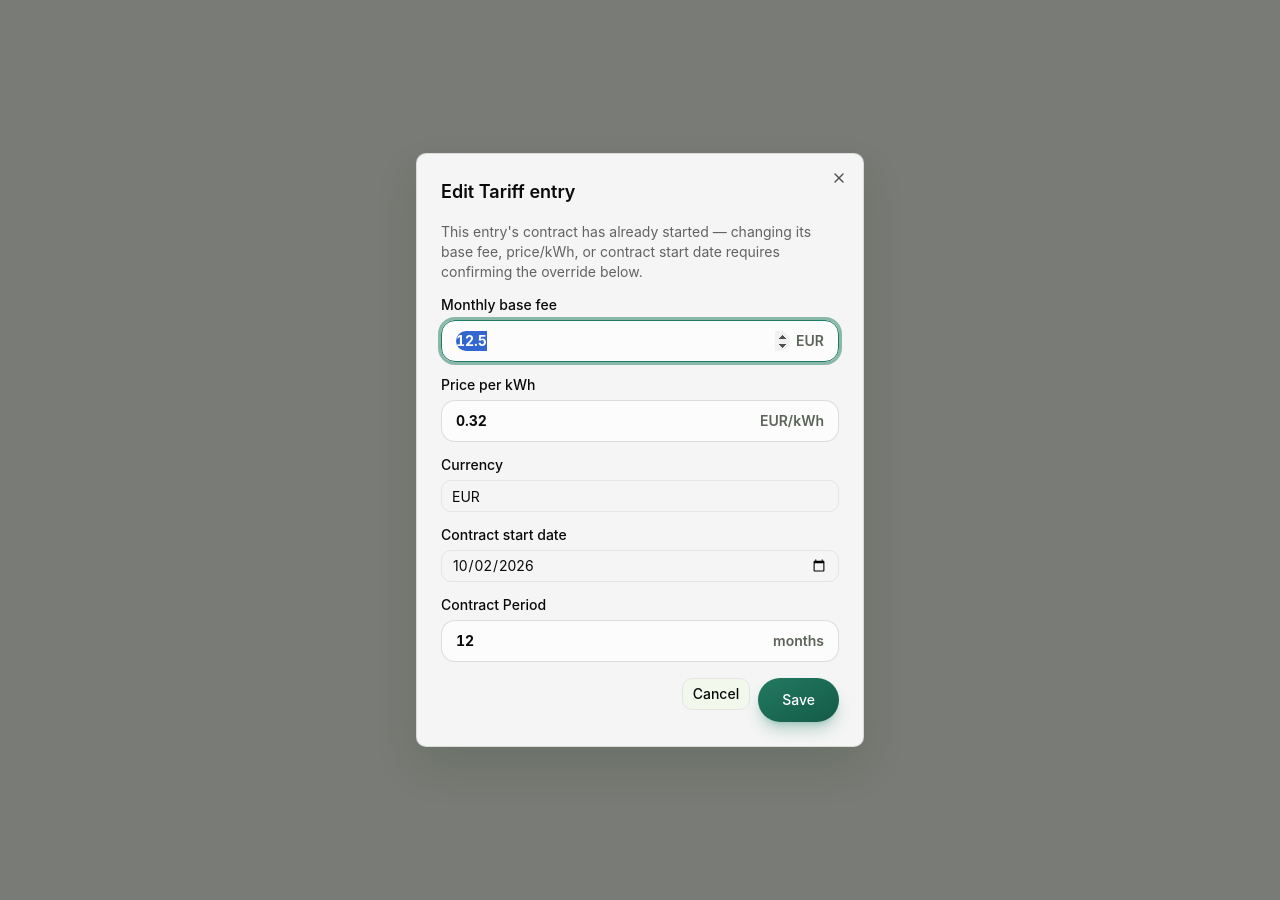
Test: EditTariffDialog › editing a price field on an already-started entry requires the override checkbox before Save is enabled
The image size is (1280, 900).
Expected: the text "already started" is shown, [441,223,811,280]
Clear the number field labelled "Monthly base fee" at [623, 341], box [456,331,790,351]
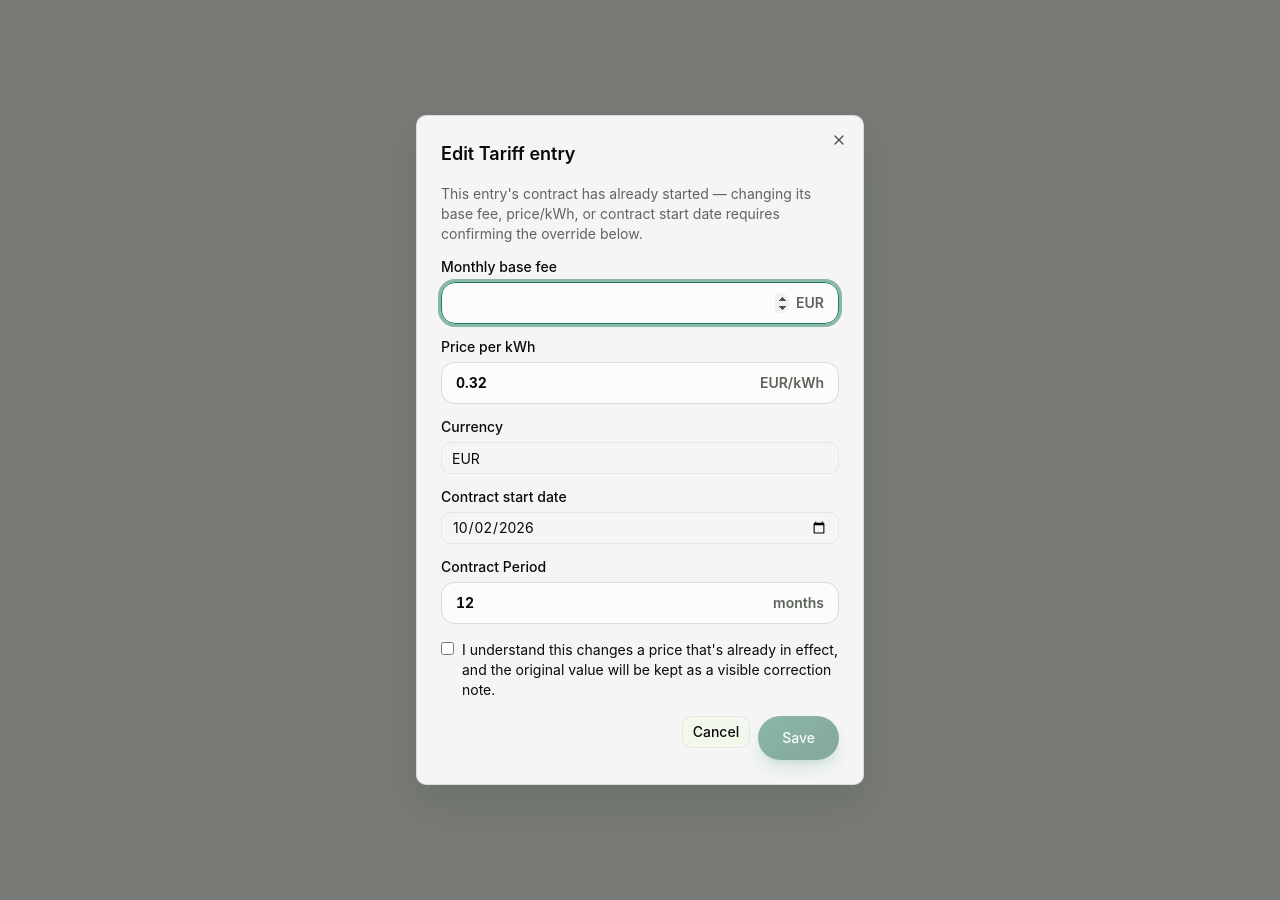
Type "20" into the number field labelled "Monthly base fee" at [623, 303], box [456,293,790,313]
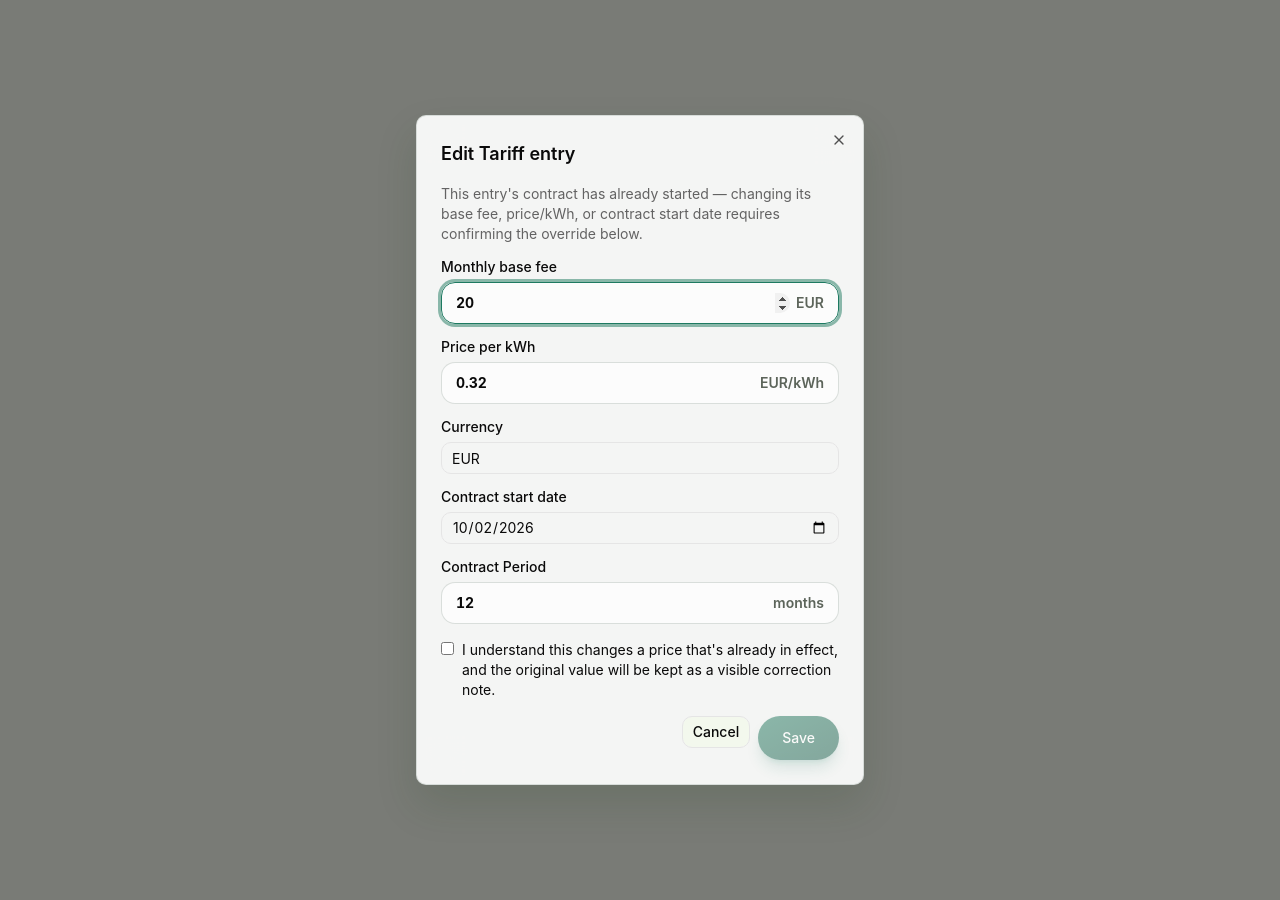
Now the button "Save" is disabled, box [758,716,839,760]
Click the checkbox at [448, 648], box [441,642,454,655]
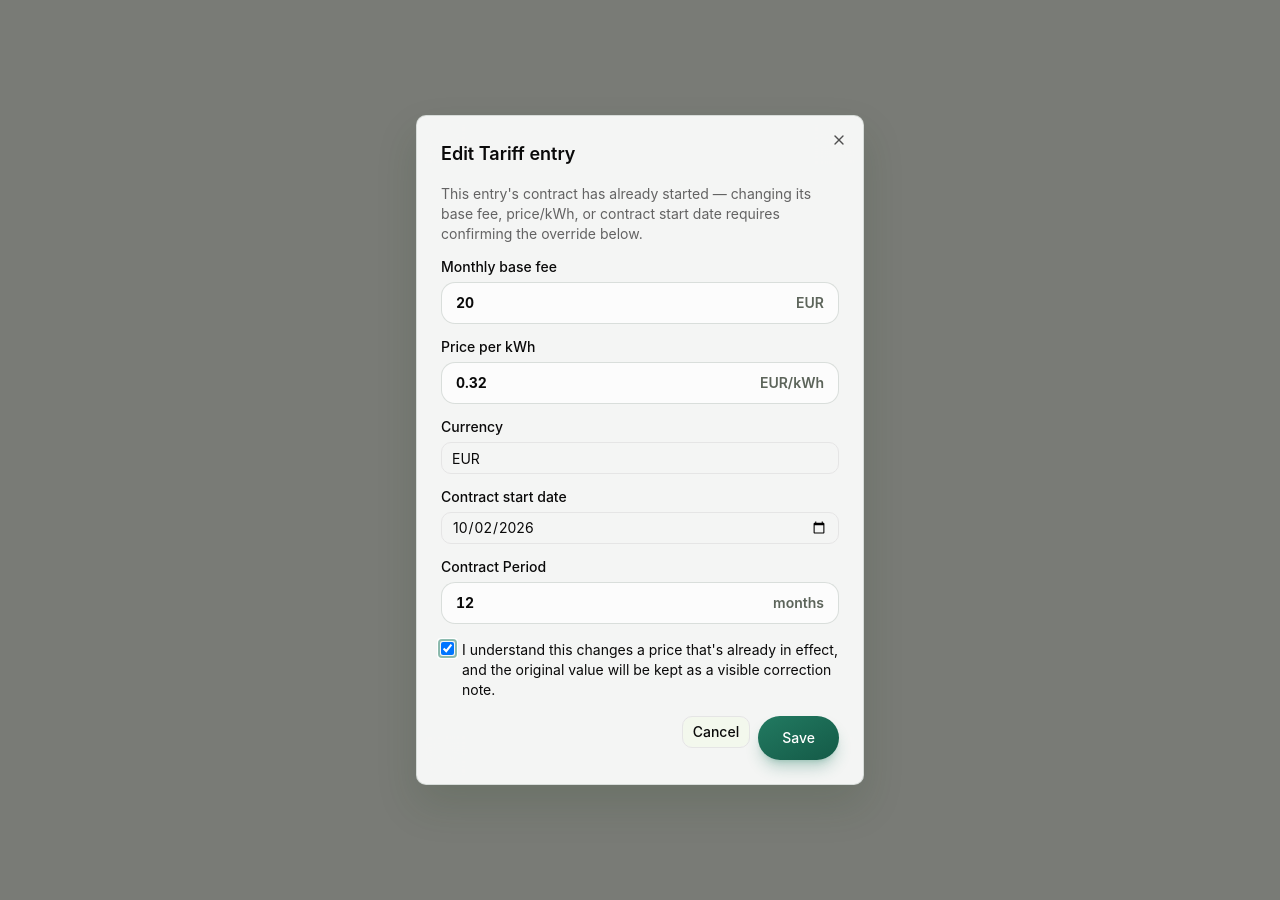
Now the button "Save" is enabled, box [758,716,839,760]
